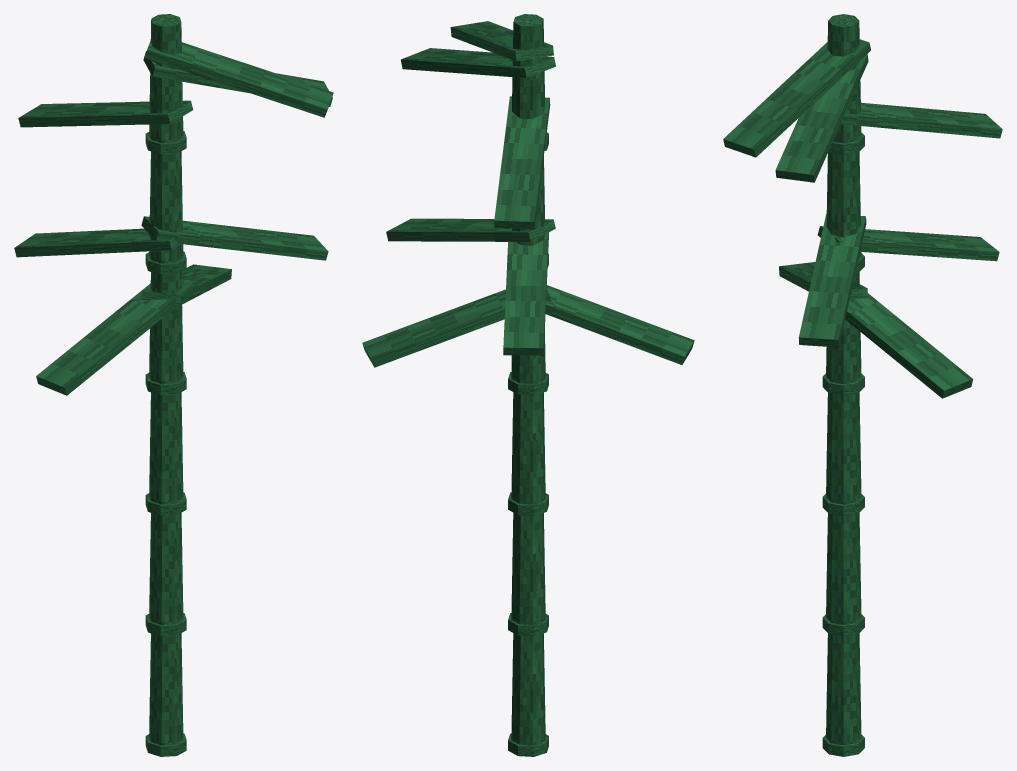
Rendered from bamboo_05.glb.
3 views of the same model, side by side, from view 1: azimuth 30°, elevation 25°; view 2: azimuth 150°, elevation 25°; view 3: azimuth 270°, elevation 25° (orthographic).
Parts seen in each view (by area): view 1: Leaf.002, Leaf, Leaf.005, Stem.001, Stem.002, Stem, Leaf.003, Leaf.001, Stem.004, Stem.005, Stem.003, Leaf.006 (+7 smaller); view 2: Leaf.003, Leaf.001, Leaf.002, Leaf.006, Stem.001, Stem, Stem.002, Leaf.005, Leaf.004, Stem.005, Leaf, Stem.003 (+1 smaller); view 3: Leaf, Leaf.005, Leaf.006, Leaf.004, Stem.002, Stem, Stem.001, Leaf.003, Leaf.001, Stem.004, Stem.005, Stem.003 (+5 smaller).
Part boxes in pixels (x1=…): Leaf.002: x1=36, y1=281, x2=193, y2=395; Leaf: x1=144, y1=40, x2=333, y2=117; Leaf.005: x1=141, y1=216, x2=328, y2=260; Stem.001: x1=149, y1=512, x2=183, y2=624; Stem.002: x1=149, y1=392, x2=183, y2=504; Stem: x1=149, y1=633, x2=183, y2=745; Leaf.003: x1=18, y1=100, x2=193, y2=127; Leaf.001: x1=14, y1=226, x2=190, y2=257; Stem.004: x1=149, y1=151, x2=183, y2=263; Stem.005: x1=149, y1=14, x2=183, y2=142; Stem.003: x1=149, y1=272, x2=183, y2=383; Leaf.006: x1=141, y1=264, x2=231, y2=305; Leaf.003: x1=494, y1=96, x2=550, y2=229; Leaf.001: x1=503, y1=232, x2=548, y2=355; Leaf.002: x1=505, y1=285, x2=694, y2=364; Leaf.006: x1=362, y1=289, x2=551, y2=367; Stem.001: x1=511, y1=513, x2=545, y2=624; Stem: x1=511, y1=633, x2=545, y2=745; Stem.002: x1=511, y1=392, x2=545, y2=504; Leaf.005: x1=386, y1=218, x2=555, y2=241; Leaf.004: x1=401, y1=48, x2=555, y2=77; Stem.005: x1=512, y1=14, x2=545, y2=119; Leaf: x1=450, y1=21, x2=553, y2=61; Stem.003: x1=511, y1=329, x2=545, y2=383; Leaf: x1=723, y1=39, x2=870, y2=157; Leaf.005: x1=798, y1=214, x2=866, y2=347; Leaf.006: x1=845, y1=293, x2=973, y2=398; Leaf.004: x1=775, y1=54, x2=868, y2=182; Stem.002: x1=826, y1=392, x2=861, y2=504; Stem: x1=826, y1=633, x2=861, y2=745; Stem.001: x1=826, y1=513, x2=861, y2=624; Leaf.003: x1=841, y1=102, x2=1002, y2=138; Leaf.001: x1=817, y1=226, x2=999, y2=261; Stem.004: x1=826, y1=152, x2=861, y2=258; Stem.005: x1=827, y1=14, x2=861, y2=143; Stem.003: x1=826, y1=272, x2=861, y2=384.
Size of the model in its own units: 1.49 by 3.6 by 1.25.
1 material, 1 textured.
